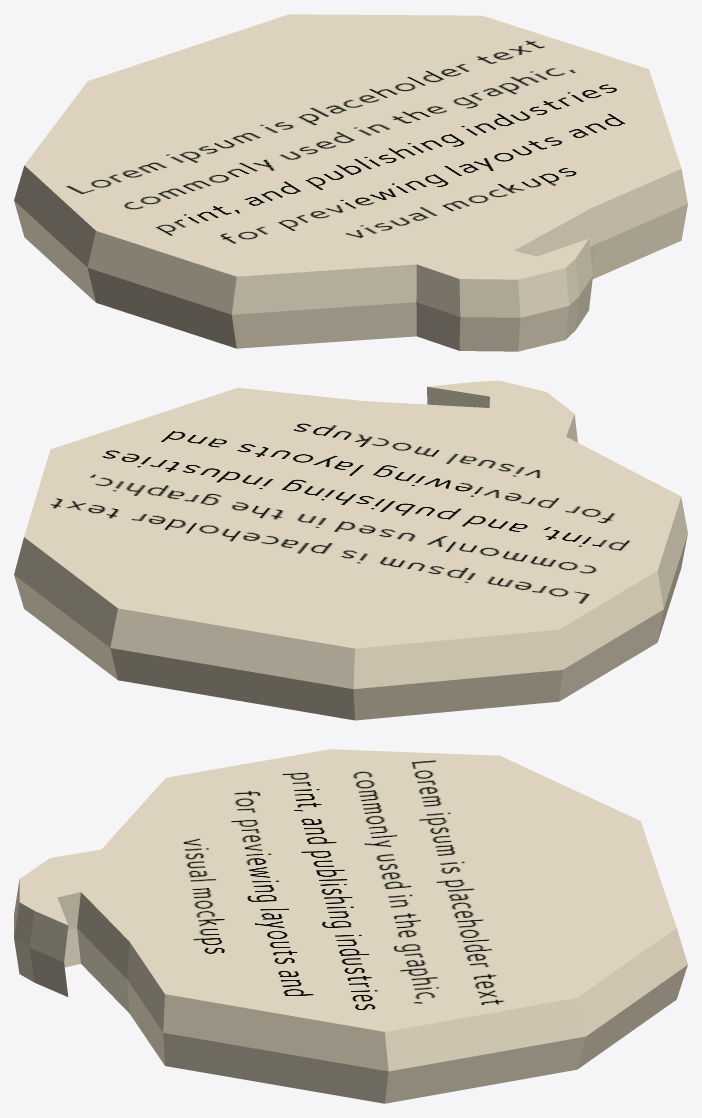
Rendered from dialog.fbx.
3 views of the same model, one above another, from view 1: azimuth 30°, elevation 25°; view 2: azimuth 150°, elevation 25°; view 3: azimuth 270°, elevation 25° (orthographic).
Parts seen in each view (by area): view 1: Curve; view 2: Curve; view 3: Curve.
Boxes of the visible parts, x1,y1,x2,y2 form: Curve: (14, 14, 687, 351); Curve: (14, 380, 687, 720); Curve: (14, 749, 687, 1103).
Size of the model in its own units: 61.53 by 7.13 by 60.45.
1 material, 1 textured.
